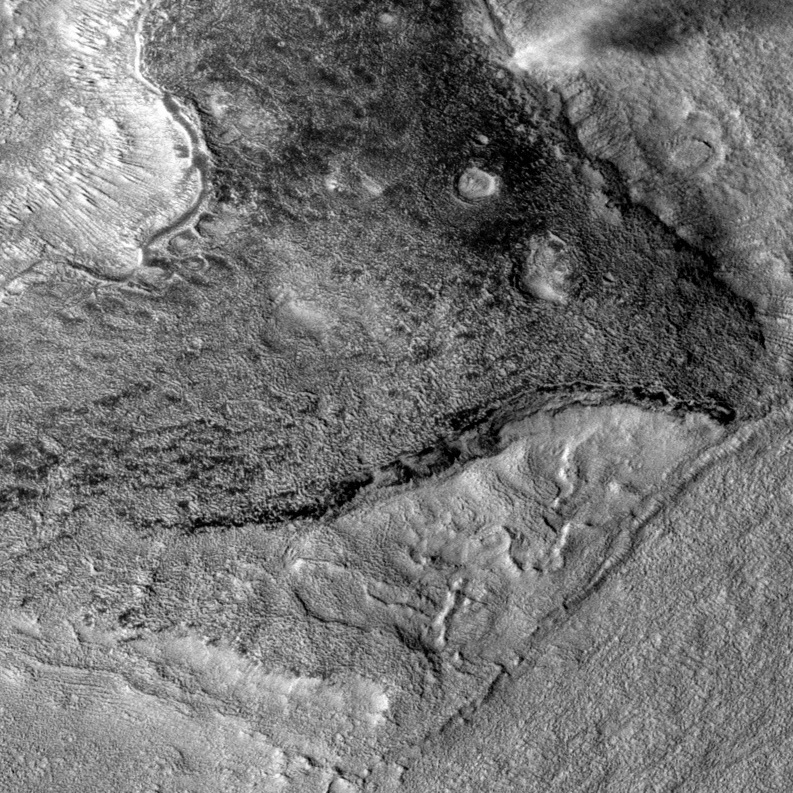dust_devil: (508, 1, 793, 72)
